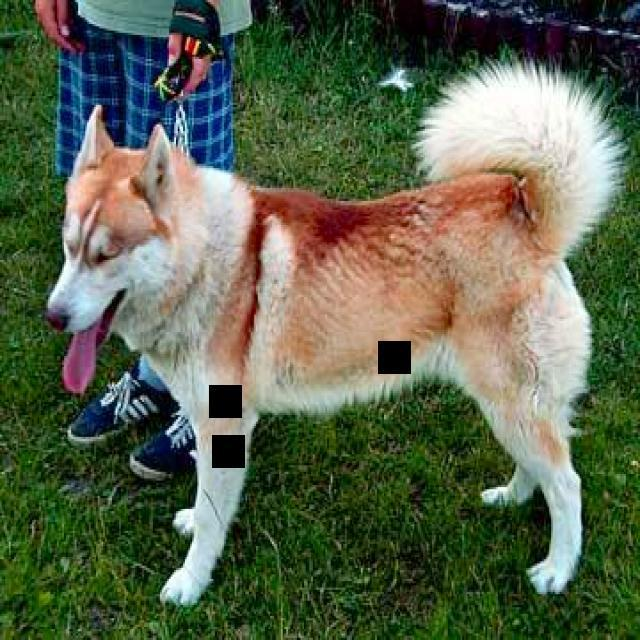adult_dog: (46, 61, 627, 609)
non-dog: (29, 2, 252, 484)
